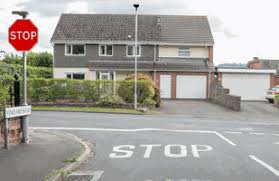stop sign: (6, 19, 38, 52)
